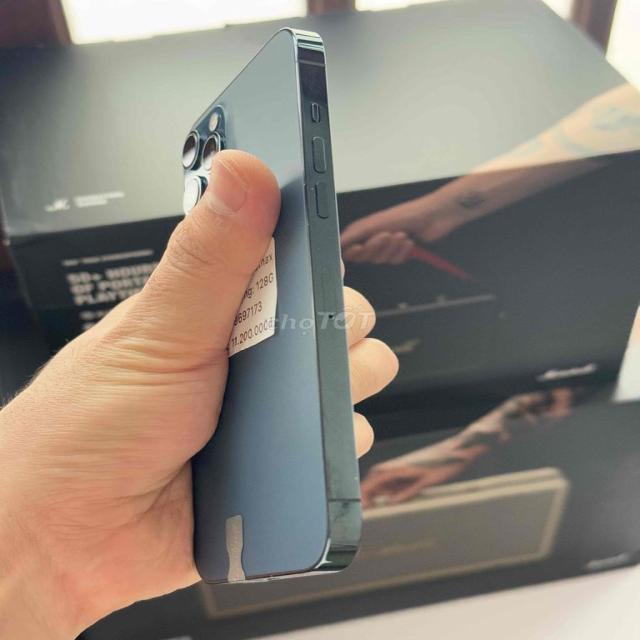gen_12_13: (167, 28, 365, 588)
